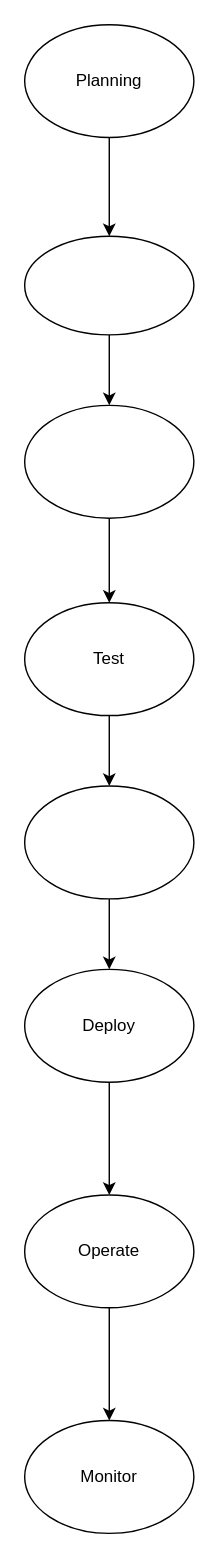
Some shapes in this 219 by 1558 pixel diagram are drawn without their labels. The shapes that lost their labels are listed below. From the top down, each one's centre as x and y in pixels, then its label:
the point at 108,285: Develop
the point at 108,461: Bulid
the point at 108,842: Release
